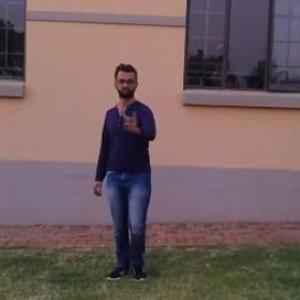takeoff-hand: (118, 100, 146, 144)
